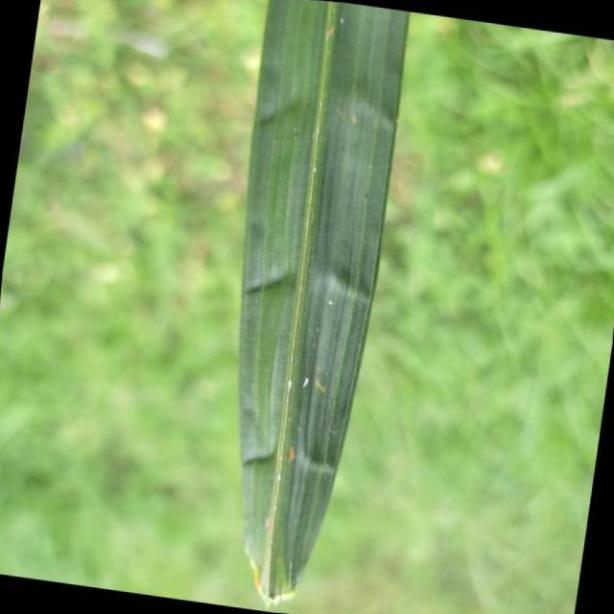Boron: (234, 0, 410, 614)
